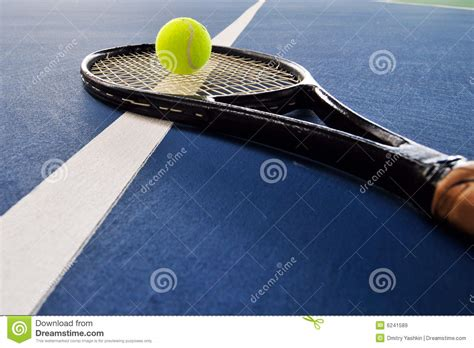tennis_ball: (155, 17, 212, 75)
